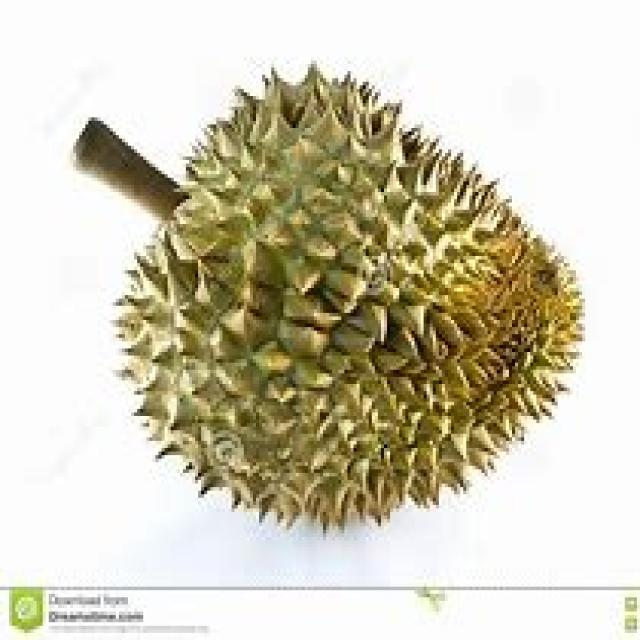mature: (119, 66, 582, 529)
